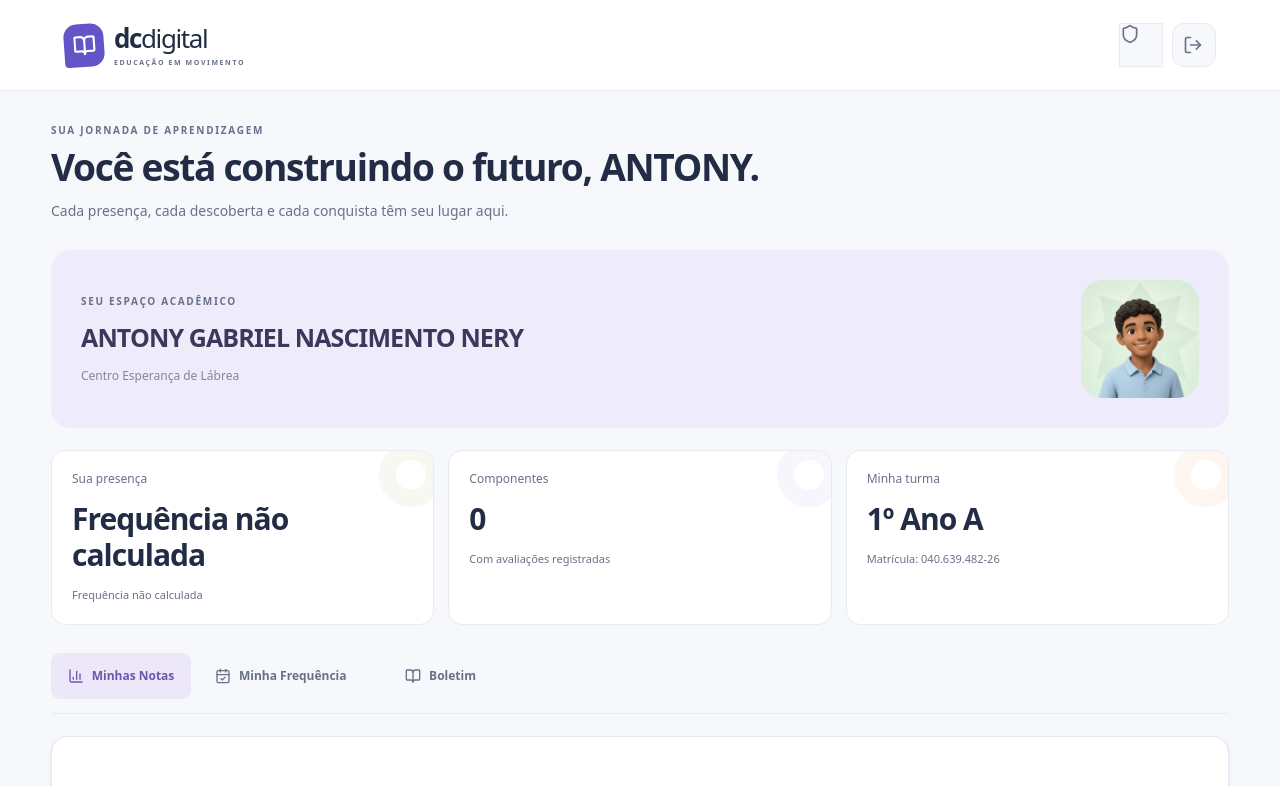
Test: PortalAluno - Resolução de Gestor(a) e Secretário(a) › deve priorizar gestor e secretário alocados em usuarios e ignorar "Não localizado" de escolas
Expected: the heading "ANTONY GABRIEL NASCIMENTO NERY" is shown, top-left (81, 319), bottom-right (523, 357)
Click the button "Boletim".
click(440, 676)  # box top-left (370, 654), bottom-right (510, 700)
(page scrolled)
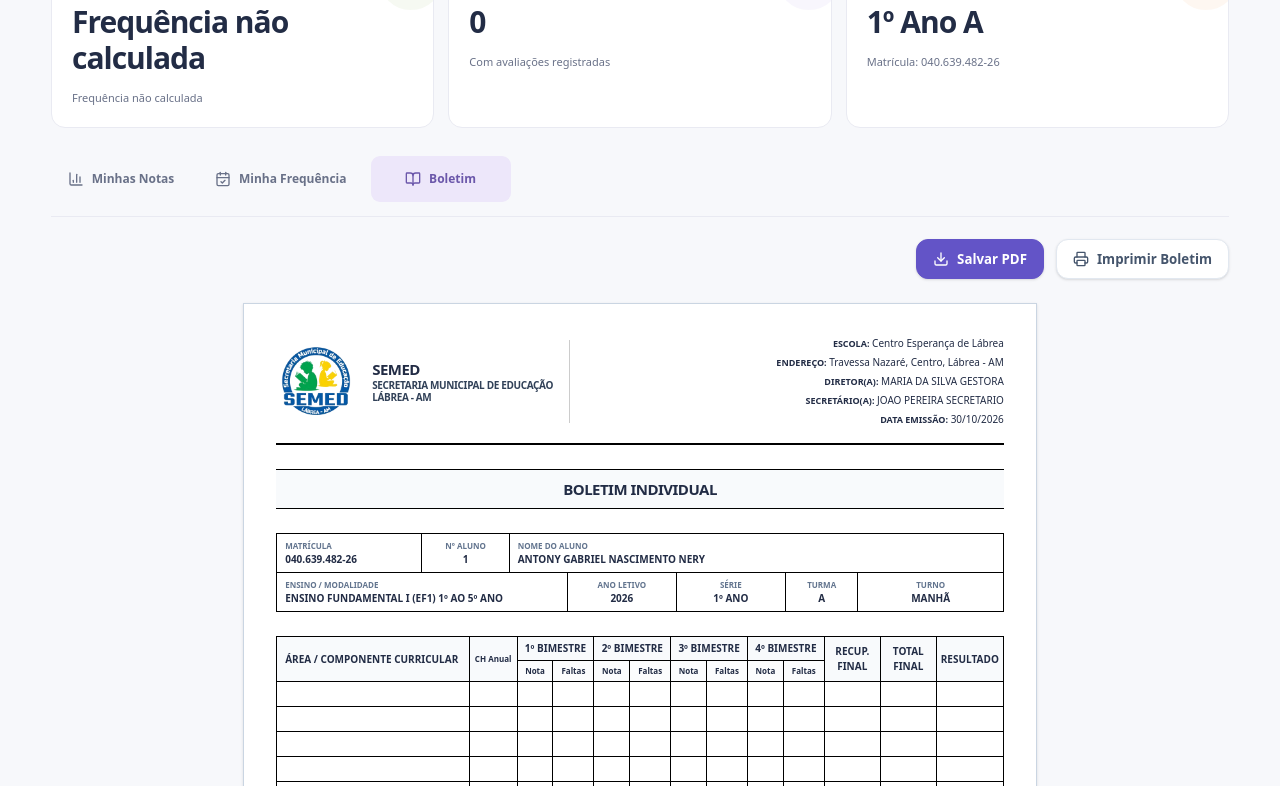
Now the text "MARIA DA SILVA GESTORA" is shown, box top-left (881, 374), bottom-right (1004, 388)
Now the text "JOAO PEREIRA SECRETARIO" is shown, box top-left (877, 394), bottom-right (1004, 408)
